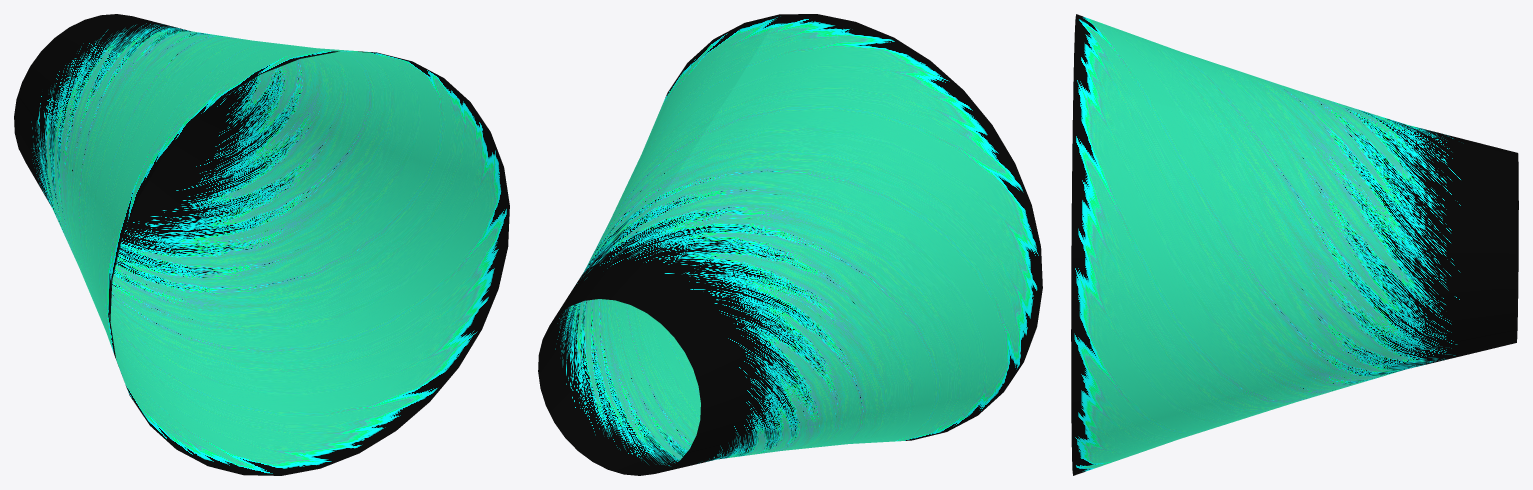
The model's file is theta-portal.glb.
3 views of the same model, side by side, from view 1: azimuth 30°, elevation 25°; view 2: azimuth 150°, elevation 25°; view 3: azimuth 270°, elevation 25° (orthographic).
Parts seen in each view (by area): view 1: portal_entrance; view 2: portal_entrance; view 3: portal_entrance.
Part boxes in pixels (x1,y1,x2,y2): portal_entrance: [14, 14, 509, 475]; portal_entrance: [538, 14, 1042, 475]; portal_entrance: [1071, 14, 1518, 475].
Size of the model in its own units: 2.34 by 2.34 by 2.27.
1 material, 1 textured.
